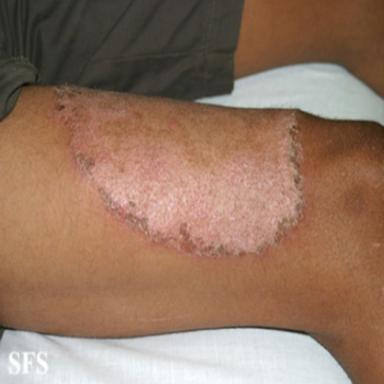Tinea-Corporis: (54, 86, 306, 257)
